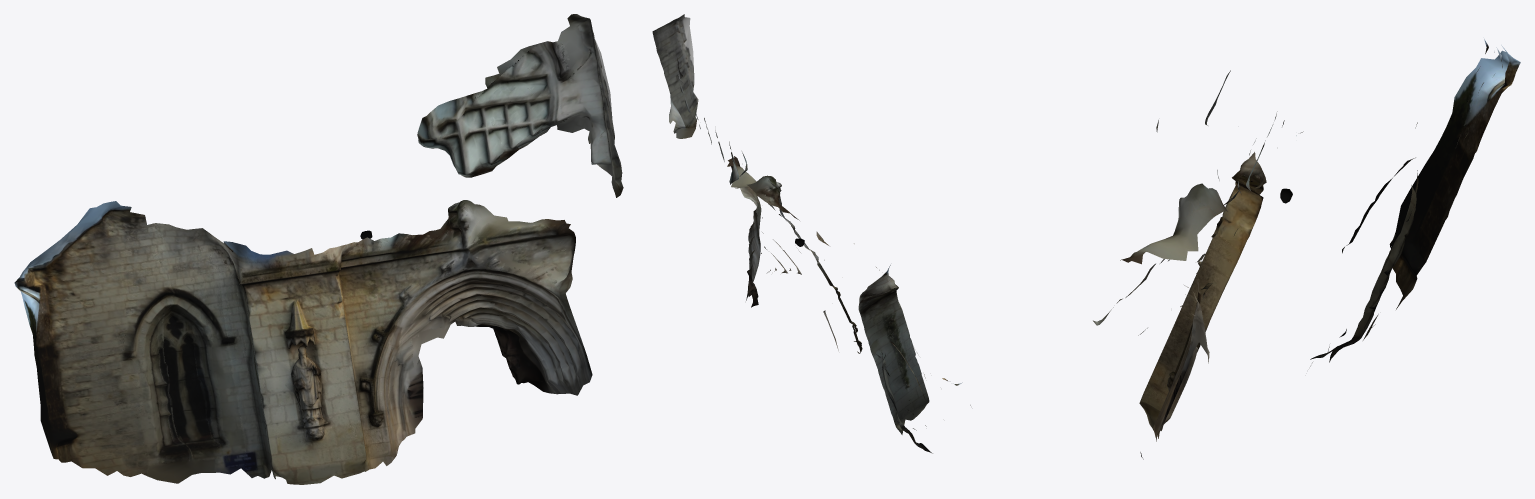
File: model7_prev.glb
3 renders of one model, left to right at view 1: azimuth 30°, elevation 25°; view 2: azimuth 150°, elevation 25°; view 3: azimuth 270°, elevation 25°, orthographic. The views are drawn at different scales.
Size of the model in its own units: 2.11 by 1.74 by 1.3.
1 material, 1 textured.
